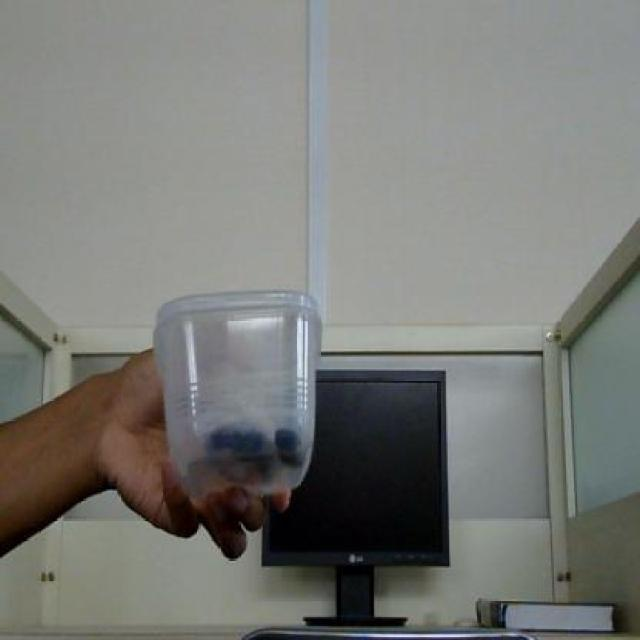Plastic: (154, 289, 325, 496)
